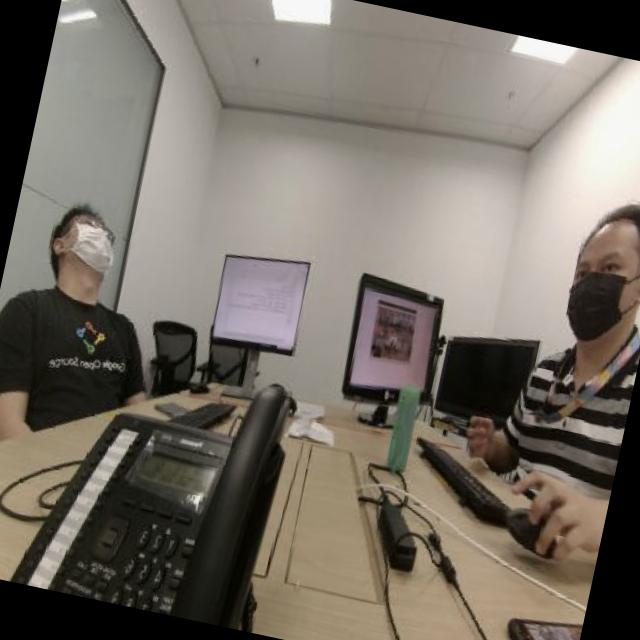Person: (494, 166, 640, 521), (5, 174, 160, 404)
